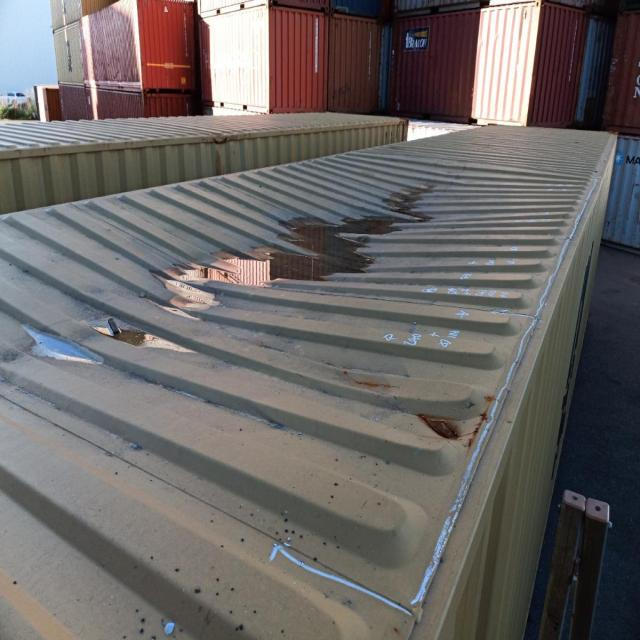dent: (55, 153, 508, 533)
